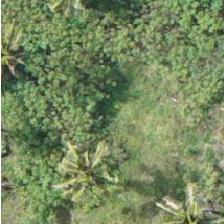coconut_tree: (46, 132, 136, 222), (0, 9, 51, 99), (148, 175, 223, 223)
